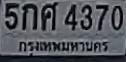0: (111, 5, 122, 30)
3: (80, 4, 92, 29)
4: (64, 3, 76, 30)
5: (4, 2, 18, 29)
7: (95, 4, 108, 30)
A01: (21, 3, 37, 29)
A38: (40, 1, 58, 30)
BKK: (17, 37, 111, 55)
